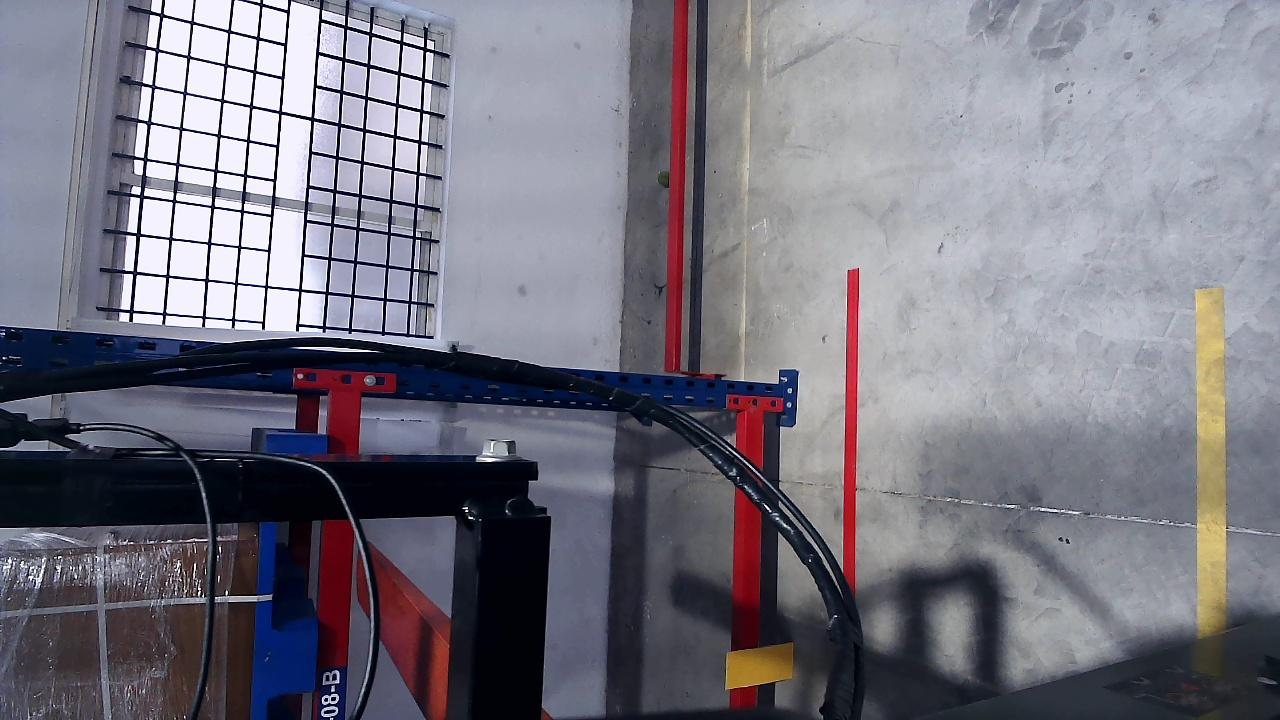h_rack: (311, 393, 364, 719), (734, 408, 768, 707), (841, 265, 866, 588)
orange_strip: (725, 642, 795, 689)
yellow_line: (1197, 288, 1228, 636)
